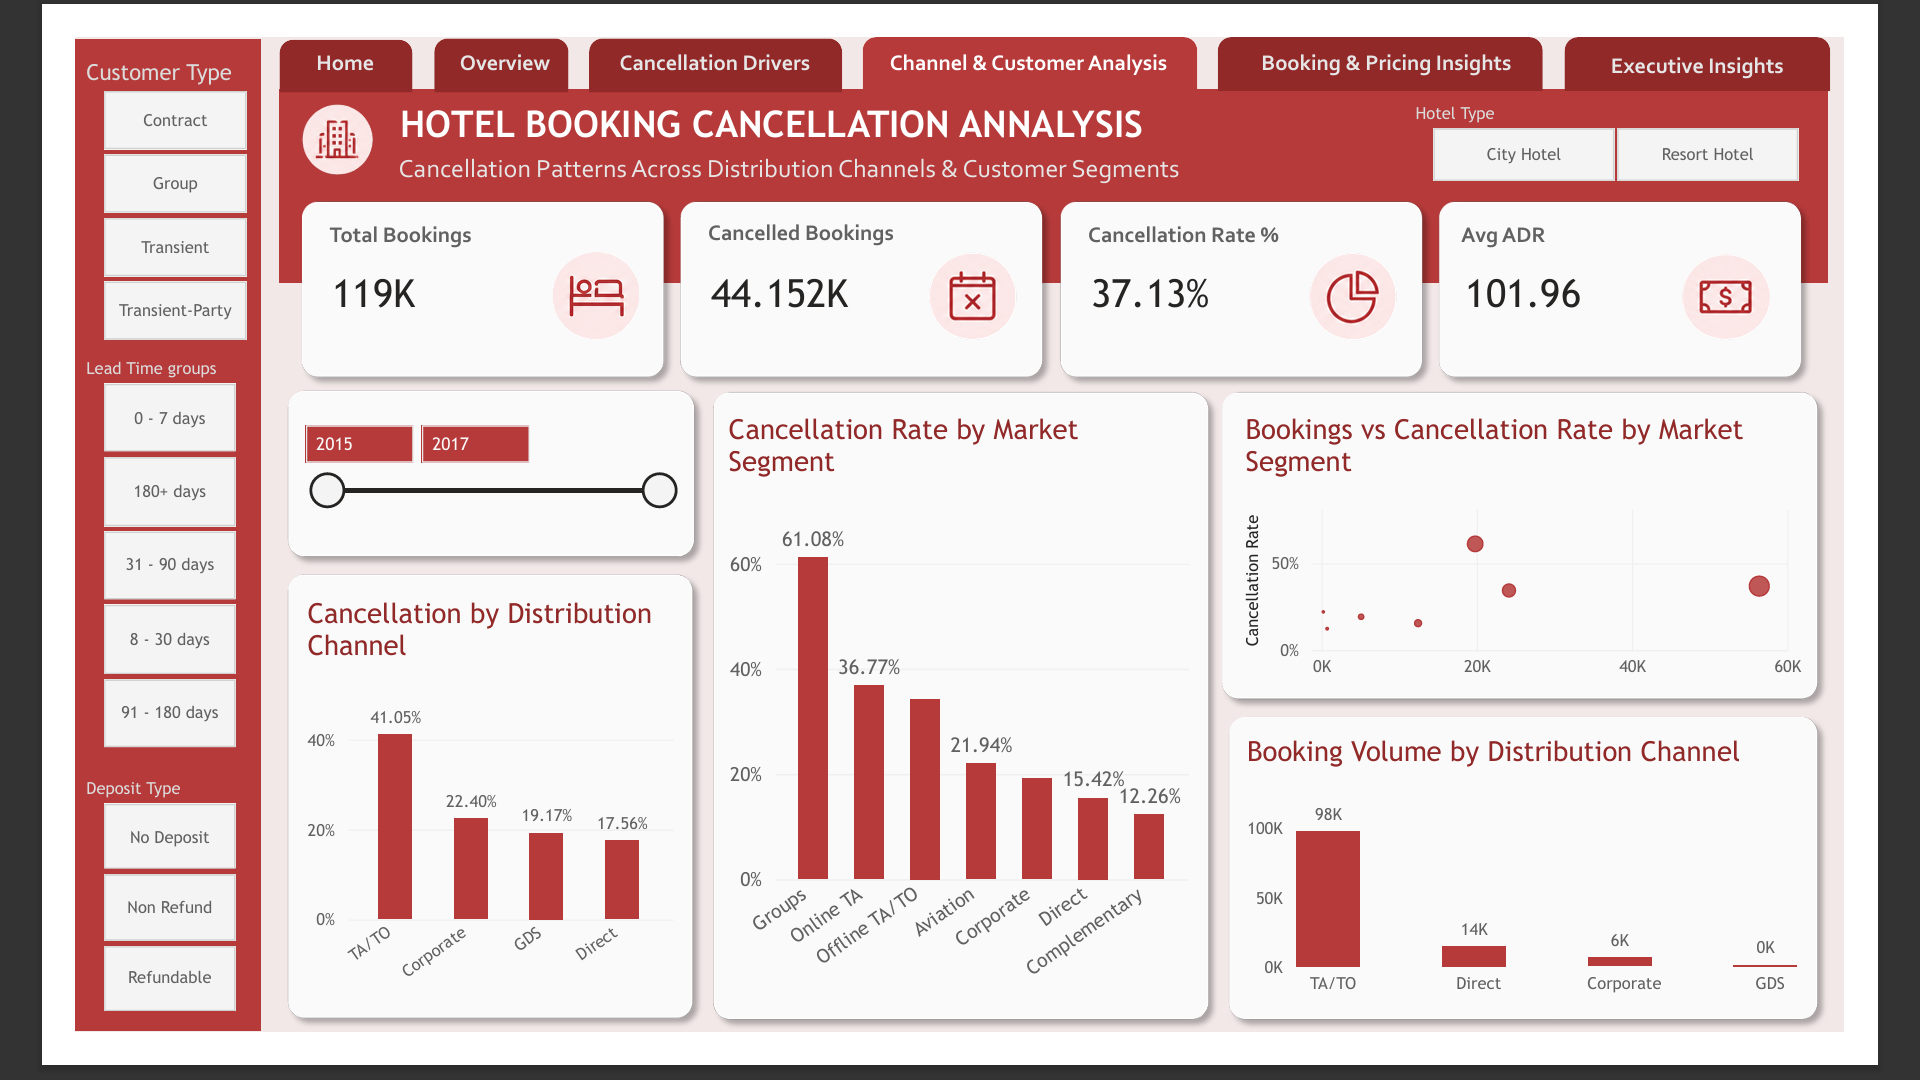

The dashboard page shown, as its layout file describes it:
{"tool":"powerbi","page":{"name":"Channel & Customer Analysis ","canvas":[1280,720],"ordinal":3},"visuals":[{"type":"shape","box":[0,1.6,134.5,718],"z":0},{"type":"shape","box":[148.2,38.3,1120.8,140],"z":0,"group":"g3"},{"type":"textbox","box":[201.3,47,606.4,35.1],"z":0,"group":"g1"},{"type":"shape","box":[372,0.7,182.6,39],"z":1000,"group":"g3"},{"type":"textbox","box":[234.3,83.3,589.9,25.3],"z":1000,"group":"g1"},{"type":"shape","box":[145.2,247.4,311.9,138],"z":1000},{"type":"shape","box":[827.3,0,234.9,39],"z":2000,"group":"g3"},{"type":"shape","box":[452.7,247.8,376.2,472],"z":2000},{"type":"shape","box":[570.1,0,241.6,39],"z":3000,"group":"g3"},{"type":"shape","box":[144.5,379.6,311.3,339.9],"z":3000},{"type":"shape","box":[259.6,0.6,96.8,39],"z":4000,"group":"g3"},{"type":"clusteredColumnChart","title":"Cancellation Rate by Market Segment","fields":{"Y":[" Measures.Cancellation Rate"],"Category":["hotel_bookings.market_segment"]},"box":[457.1,258.2,364.4,454.5],"z":4000},{"type":"shape","box":[1077.8,0.3,192,39],"z":5000,"group":"g3"},{"type":"shape","box":[826.1,483.3,444.1,236.7],"z":5000},{"type":"shape","box":[148.2,2.1,95.7,37.8],"z":6000,"group":"g3"},{"type":"columnChart","title":"Booking Volume by Distribution Channel","fields":{"Y":[" Measures.Total Bookings"],"Category":["hotel_bookings.distribution_channel"]},"box":[832.3,490.8,436.7,220.8],"z":6000},{"type":"group","id":"g1","title":"Group 3","box":[201.3,47,623,61.6],"z":7000,"group":"g3"},{"type":"shape","box":[821.2,248.2,449,240],"z":7000},{"type":"group","id":"g2","title":"Group 5","box":[145.8,9,905.2,28],"z":8000,"group":"g3"},{"type":"scatterChart","title":"Bookings vs Cancellation Rate by Market Segment","fields":{"X":[" Measures.Total Bookings"],"Y":[" Measures.Cancellation Rate"],"Category":["hotel_bookings.market_segment"],"Size":[" Measures.Cancelled Bookings"]},"box":[831,258,434.3,225.3],"z":8000},{"type":"group","id":"g3","title":"Group 1","box":[145.8,0,1124,178.3],"z":9000},{"type":"textbox","box":[1102.6,10.6,142.4,25.3],"z":9000,"group":"g3"},{"type":"slicer","fields":{"Values":["hotel_bookings.arrival_date_year"]},"box":[158.8,276.3,280.5,79.1],"z":10000},{"type":"columnChart","title":"Cancellation by Distribution Channel","fields":{"Category":["hotel_bookings.distribution_channel"],"Y":[" Measures.Cancellation Rate"]},"box":[152.5,390.7,297,322.4],"z":11000},{"type":"slicer","fields":{"Values":["hotel_bookings.lead_time_groups"]},"box":[0,233.4,135,282.7],"z":12000},{"type":"slicer","fields":{"Values":["hotel_bookings.hotel"]},"box":[962.4,47.6,303.3,58.8],"z":13000},{"type":"slicer","fields":{"Values":["hotel_bookings.customer_type"]},"box":[0,15.9,142.9,204.9],"z":14000},{"type":"shape","box":[155.4,110,279.9,144.8],"z":15000,"group":"g6"},{"type":"shape","box":[429.5,110,279.9,144.8],"z":15000,"group":"g5"},{"type":"shape","box":[703.6,110,279.9,144.8],"z":15000,"group":"g4"},{"type":"shape","box":[978,110,280.2,145.3],"z":15000,"group":"g7"},{"type":"slicer","fields":{"Values":["hotel_bookings.deposit_type"]},"box":[0,536.8,135,169.9],"z":15000},{"type":"group","id":"g4","title":"Group 2","box":[703.6,110,280.2,145.3],"z":16000},{"type":"cardVisual","title":"Total Bookings","fields":{"Data":[" Measures.Cancelled Bookings"]},"box":[444.6,151.7,253.4,65.1],"z":16000,"group":"g5"},{"type":"cardVisual","title":"Total Bookings","fields":{"Data":[" Measures.Total Bookings"]},"box":[170.8,152.2,253.4,65.1],"z":16000,"group":"g6"},{"type":"cardVisual","title":"Total Bookings","fields":{"Data":[" Measures.Cancellation Rate"]},"box":[719,152.2,253.4,65.1],"z":16000,"group":"g4"},{"type":"cardVisual","title":"Total Bookings","fields":{"Data":[" Measures.Avg ADR"]},"box":[989.5,152.2,253.4,65.1],"z":16000,"group":"g7"},{"type":"group","id":"g5","title":"Group 2","box":[429.5,110,279.9,144.8],"z":17000},{"type":"textbox","box":[458.2,132.4,228,20.5],"z":17000,"group":"g5"},{"type":"textbox","box":[184.4,132.9,228,20.5],"z":17000,"group":"g6"},{"type":"textbox","box":[732.6,132.9,228,20.5],"z":17000,"group":"g4"},{"type":"textbox","box":[1003.1,132.9,228,20.5],"z":17000,"group":"g7"},{"type":"group","id":"g6","title":"Group 2","box":[155.4,110,279.9,144.8],"z":18000},{"type":"image","box":[616.4,154.6,66.4,65],"z":18000,"group":"g5"},{"type":"image","box":[342.6,155.1,66.4,65],"z":18000,"group":"g6"},{"type":"image","box":[890.8,155.1,66.4,65],"z":18000,"group":"g4"},{"type":"image","box":[1161.3,155.1,66.4,65],"z":18000,"group":"g7"},{"type":"textbox","box":[145.8,9.1,99.1,27.8],"z":19000,"group":"g2"},{"type":"group","id":"g7","title":"Group 2","box":[978,110,280.2,145.3],"z":19000},{"type":"image","box":[164.1,43.4,51.9,61.5],"z":19001},{"type":"textbox","box":[261.5,9.1,98,26.7],"z":20000,"group":"g2"},{"type":"textbox","box":[376.4,9.1,172.5,27.8],"z":21000,"group":"g2"},{"type":"textbox","box":[577.9,9,227.1,25.6],"z":22000,"group":"g2"},{"type":"textbox","box":[847.3,9,203.7,23.4],"z":23000,"group":"g2"}]}

Visuals, with their boxes in screenshot pixels (x1, y1, x2, y2), scaled from the page's 1280x720 canvas onto the 1920x1080 screenshot:
shape: (0,2,202,1079)
shape: (222,57,1904,267)
textbox: (302,70,1212,123)
shape: (558,1,832,60)
textbox: (351,125,1236,163)
shape: (218,371,686,578)
shape: (1241,0,1593,58)
shape: (679,372,1243,1079)
shape: (855,0,1218,58)
shape: (217,569,684,1079)
shape: (389,1,535,59)
"Cancellation Rate by Market Segment" clusteredColumnChart: (686,387,1232,1069)
shape: (1617,0,1905,59)
shape: (1239,725,1905,1079)
shape: (222,3,366,60)
"Booking Volume by Distribution Channel" columnChart: (1248,736,1904,1067)
"Group 3" group: (302,70,1236,163)
shape: (1232,372,1905,732)
"Group 5" group: (219,14,1576,56)
"Bookings vs Cancellation Rate by Market Segment" scatterChart: (1246,387,1898,725)
"Group 1" group: (219,0,1905,267)
textbox: (1654,16,1868,54)
slicer - hotel_bookings.arrival_date_year: (238,414,659,533)
"Cancellation by Distribution Channel" columnChart: (229,586,674,1070)
slicer - hotel_bookings.lead_time_groups: (0,350,202,774)
slicer - hotel_bookings.hotel: (1444,71,1899,160)
slicer - hotel_bookings.customer_type: (0,24,214,331)
shape: (233,165,653,382)
shape: (644,165,1064,382)
shape: (1055,165,1475,382)
shape: (1467,165,1887,383)
slicer - hotel_bookings.deposit_type: (0,805,202,1060)
"Group 2" group: (1055,165,1476,383)
"Total Bookings" cardVisual: (667,228,1047,325)
"Total Bookings" cardVisual: (256,228,636,326)
"Total Bookings" cardVisual: (1078,228,1459,326)
"Total Bookings" cardVisual: (1484,228,1864,326)
"Group 2" group: (644,165,1064,382)
textbox: (687,199,1029,229)
textbox: (277,199,619,230)
textbox: (1099,199,1441,230)
textbox: (1505,199,1847,230)
"Group 2" group: (233,165,653,382)
image: (925,232,1024,329)
image: (514,233,614,330)
image: (1336,233,1436,330)
image: (1742,233,1842,330)
textbox: (219,14,367,55)
"Group 2" group: (1467,165,1887,383)
image: (246,65,324,157)
textbox: (392,14,539,54)
textbox: (565,14,823,55)
textbox: (867,14,1208,52)
textbox: (1271,14,1576,49)
